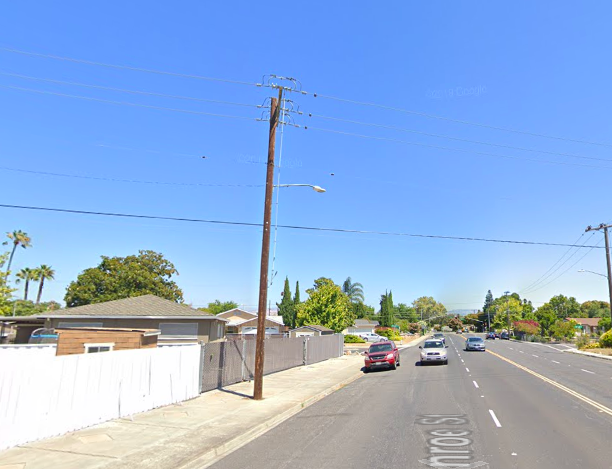utility_pole: (247, 67, 324, 162)
